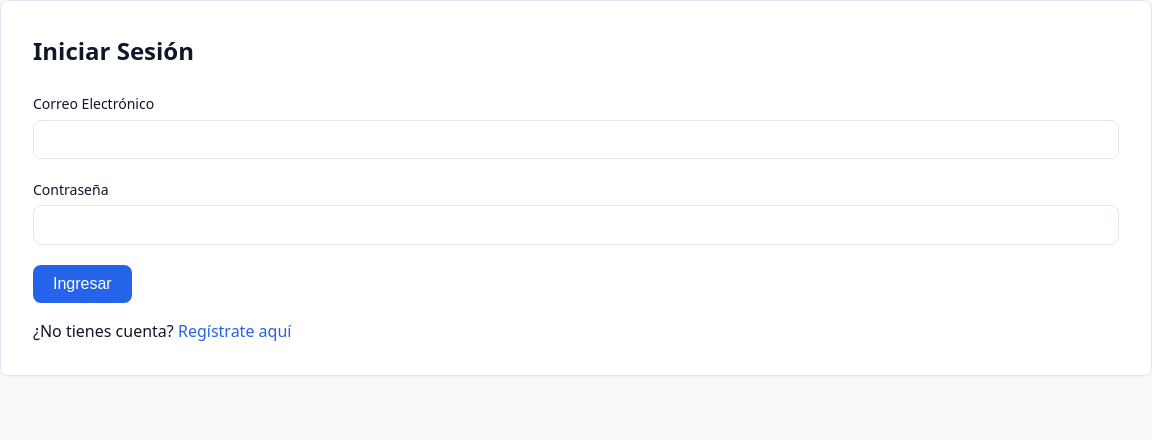
LoginPage › muestra errores de validación de Zod cuando se envía vacío
What coordinates should you click on to do the following:
click the button "Ingresar"
I would click on:
 (82, 284)
Its box is [33,265,132,303].
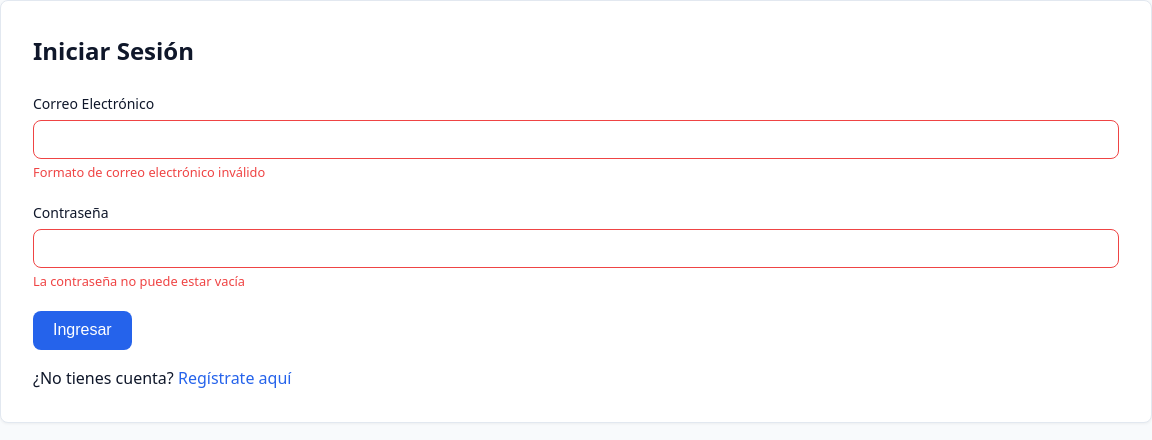
expect the text "Formato de correo electrónico inválido" is shown: met, box [33,163,265,181]
